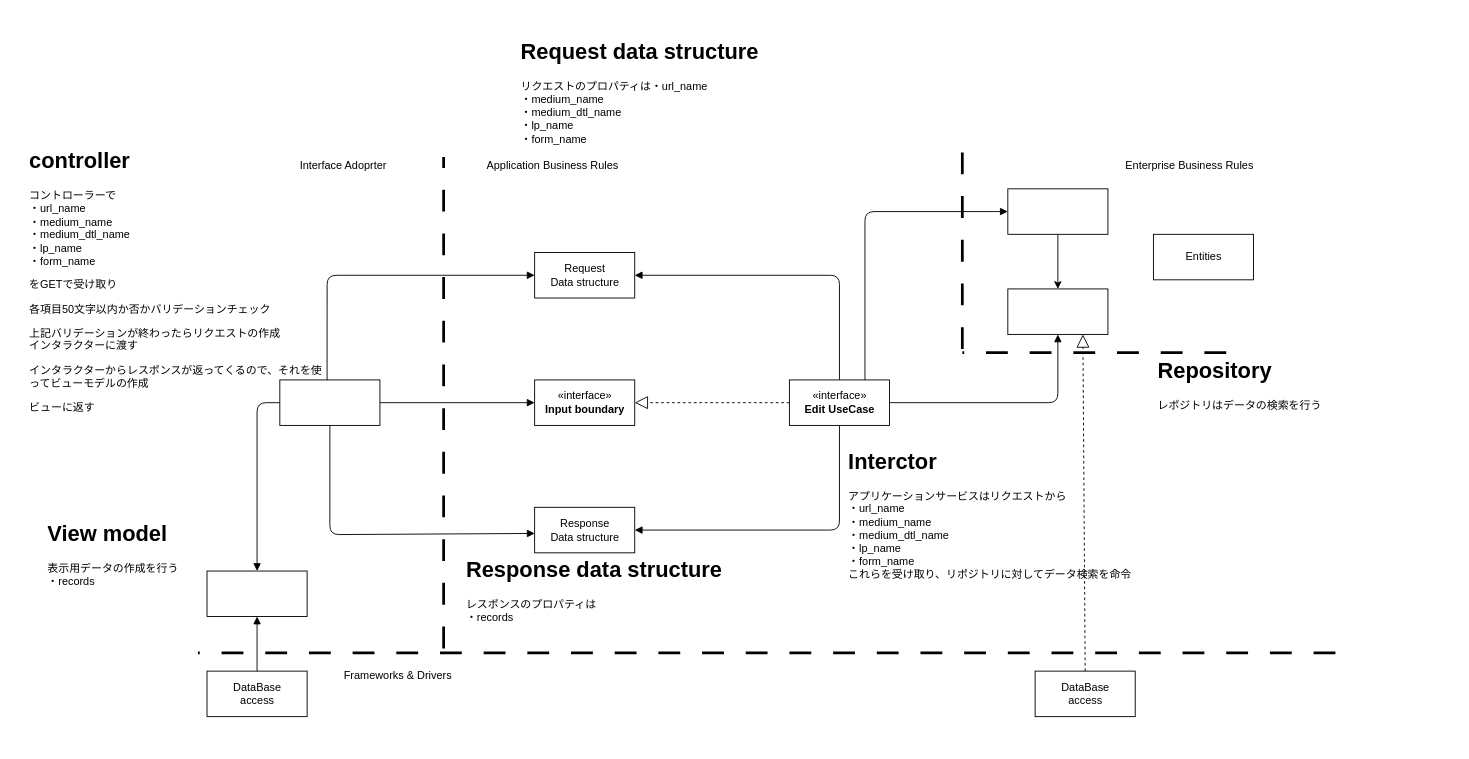
The diagram is 1469 pixels wide and 759 high, and some of its shapes have lost their labels. The shapes that lost their labels are listed below. From the top down, each one's box as (x1, y1, x2, y2) in pixels, then its label:
(1007, 188, 1108, 234): Domain Service
(1007, 288, 1108, 334): «interface» Repository
(279, 379, 380, 425): Controller
(206, 570, 307, 617): ViewModel Data structure
